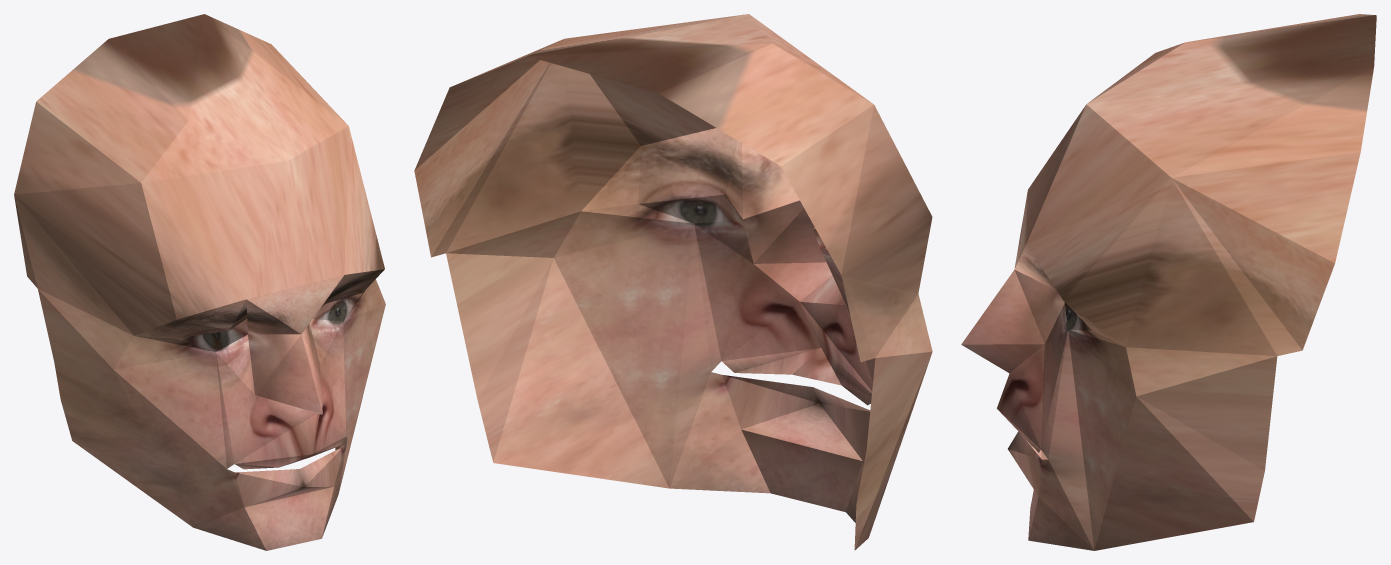
Rendered from perekur_MASK.glb.
3 renders of one model, left to right at view 1: azimuth 30°, elevation 25°; view 2: azimuth 150°, elevation 25°; view 3: azimuth 270°, elevation 25°, orthographic. The views are drawn at different scales.
Visible parts, largest first — view 1: Group60100.001; view 2: Group60100.001; view 3: Group60100.001.
Part boxes in pixels (x1,y1,x2,y2): Group60100.001: (14,14,385,550); Group60100.001: (414,14,932,550); Group60100.001: (961,14,1376,550).
Size of the model in its own units: 0.2549 by 0.3268 by 0.2514.
1 material, 1 textured.
